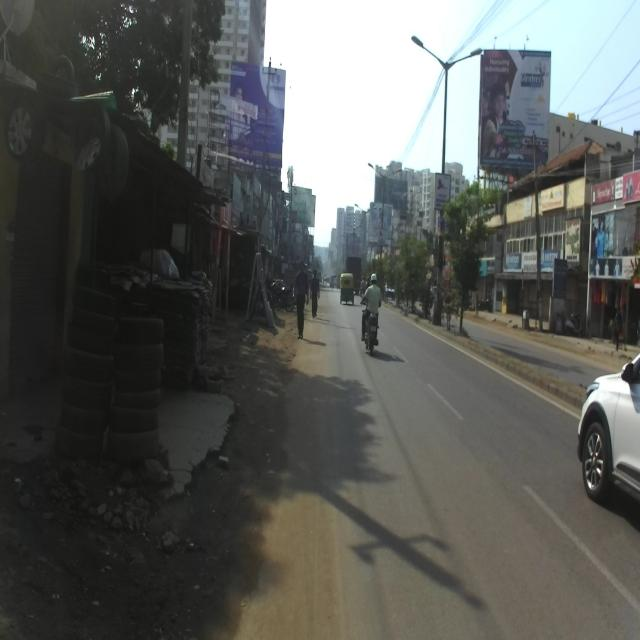Car: (576, 350, 640, 510)
motorcycle_Hero: (360, 299, 379, 354)
